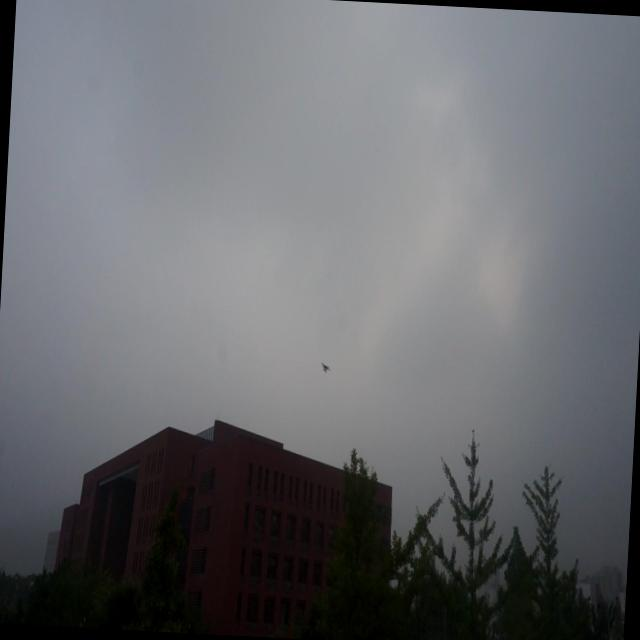drone: (319, 358, 332, 376)
